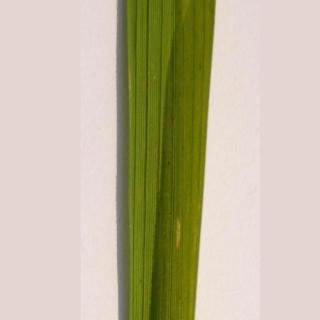Hawar-Daun: (164, 212, 190, 258)
